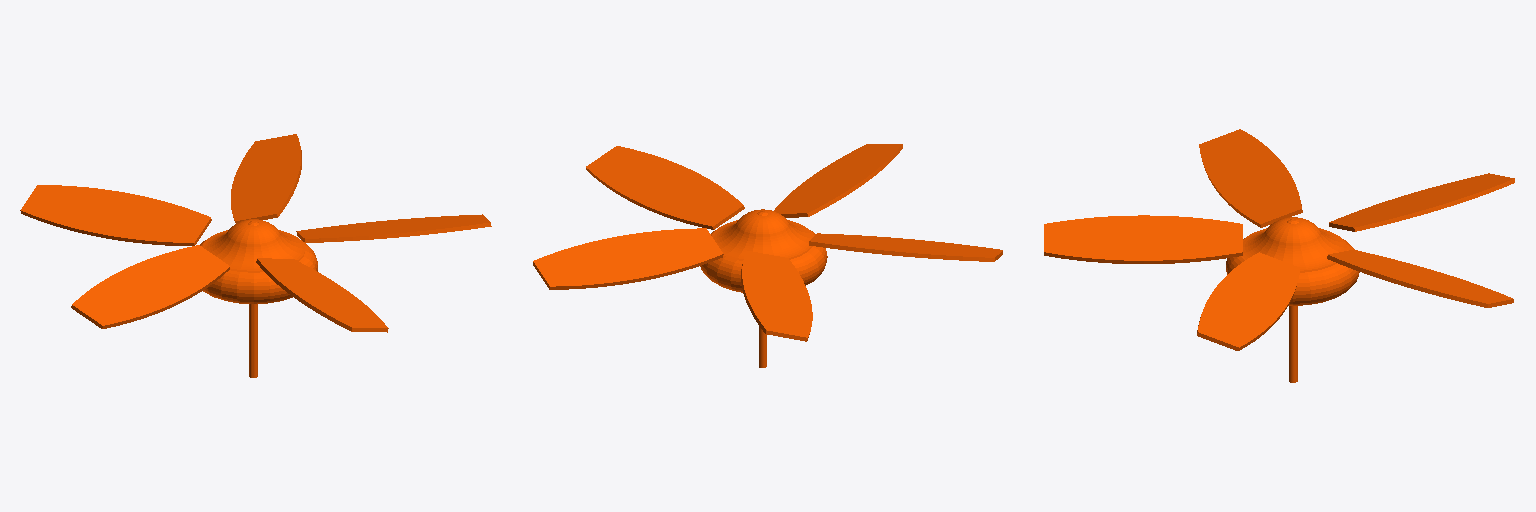
URDF robot description (CeilingFan_c28fd4436e28e61cc341afa383659322):
<?xml version="1.0" ?>
<robot name="CeilingFan_c28fd4436e28e61cc341afa383659322">
   <material name="obj_color">
      <color rgba="1.0 0.423529411765 0.0392156862745 1.0"/>
   </material>
   <link name="top">
      <inertial>
         <origin rpy="0.001061039082090709 0.001061134188797924 0.001891602634841331" xyz="-0.0002878452838878827 -0.0005351046531873634 -0.006549535193150055"/>
         <mass value="0.680317614633503"/>
         <inertia ixx="0.001061114478669309" ixy="3.596666929210296e-08" ixz="1.344493063921258e-06" iyy="0.001061068561118531" iyz="-2.511161988003131e-06" izz="0.001891592865942125"/>
      </inertial>
      <visual>
         <origin rpy="0 0 0" xyz="0 0 0"/>
         <geometry>
            <mesh filename="top_watertight_tiny.stl" scale="1 1 1"/>
         </geometry>
         <material name="obj_color"/>
      </visual>
      <collision>
         <origin rpy="0 0 0" xyz="0 0 0"/>
         <geometry>
            <mesh filename="top_watertight_tiny.obj" scale="1 1 1"/>
         </geometry>
      </collision>
   </link>
   <link name="bottom">
      <inertial>
         <origin rpy="1.633333333199431e-08 1.633333333199431e-08 1.633333333362855e-08" xyz="0.3464080000000008 0.3464080000000008 0.3464080000000008"/>
         <mass value="0.0009800000000000017"/>
         <inertia ixx="1.633333333253906e-08" ixy="5.447480642029219e-19" ixz="5.447480642029219e-19" iyy="1.633333333253906e-08" iyz="5.447480642029219e-19" izz="1.633333333253906e-08"/>
      </inertial>
      <visual>
         <origin rpy="0 0 0" xyz="0 0 0"/>
         <geometry>
            <mesh filename="bottom_watertight_tiny.stl" scale="1 1 1"/>
         </geometry>
         <material name="obj_color"/>
      </visual>
   </link>
   <link name="world"/>
   <joint name="world_to_base" type="fixed">
      <origin xyz="0 0 0"/>
      <axis xyz="0 0 0"/>
      <parent link="world"/>
      <child link="bottom"/>
   </joint>
   <joint name="rotation" type="revolute">
      <origin xyz="0 0 0"/>
      <axis xyz="0 0 -1"/>
      <parent link="bottom"/>
      <child link="top"/>
      <dynamics damping="1.0" friction="1.0"/>
      <limit effort="0.1" velocity="0.1" lower="0" upper="0.001"/>
   </joint>
</robot>

--- Render facts (derived) ---
3 views of the same robot in one strip: view 1: azimuth 30°, elevation 25°; view 2: azimuth 150°, elevation 25°; view 3: azimuth 270°, elevation 25° (orthographic).
Model CeilingFan_c28fd4436e28e61cc341afa383659322 with 3 links and 2 joints (1 revolute, 1 fixed), rooted at world, posed every joint at zero.
Visible links, largest first — view 1: top; view 2: top; view 3: top.
Boxes of the visible links, <box> form: top: <box>20,134,491,377</box>; top: <box>533,144,1002,367</box>; top: <box>1044,129,1514,382</box>.
Bounding box of the posed robot: 0.1956 × 0.1863 × 0.0702 m (x, y, z).
1 mesh visuals loaded from 2 distinct referenced files (1 binary STL); not drawn: 1 (reference not matched to a file when rendering).
